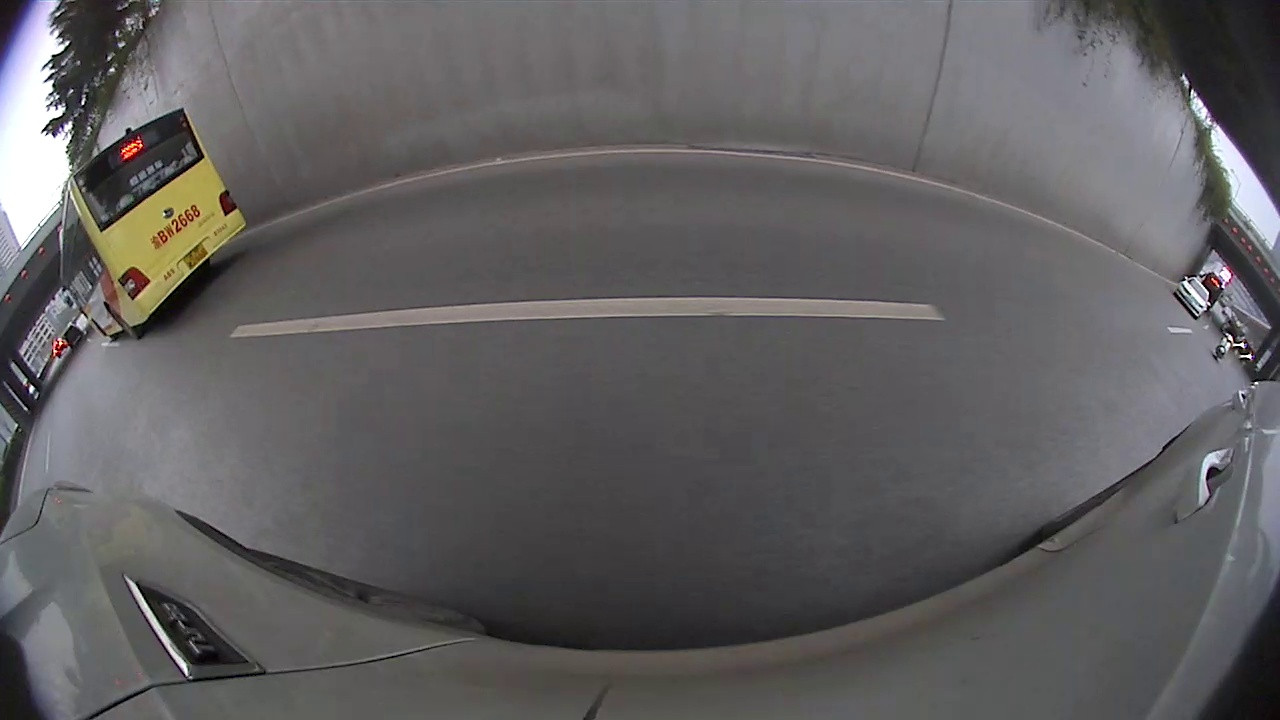bus: (59, 103, 248, 345)
car: (1177, 272, 1214, 320)
rear: (102, 301, 144, 344)
rider: (1213, 325, 1241, 357)
